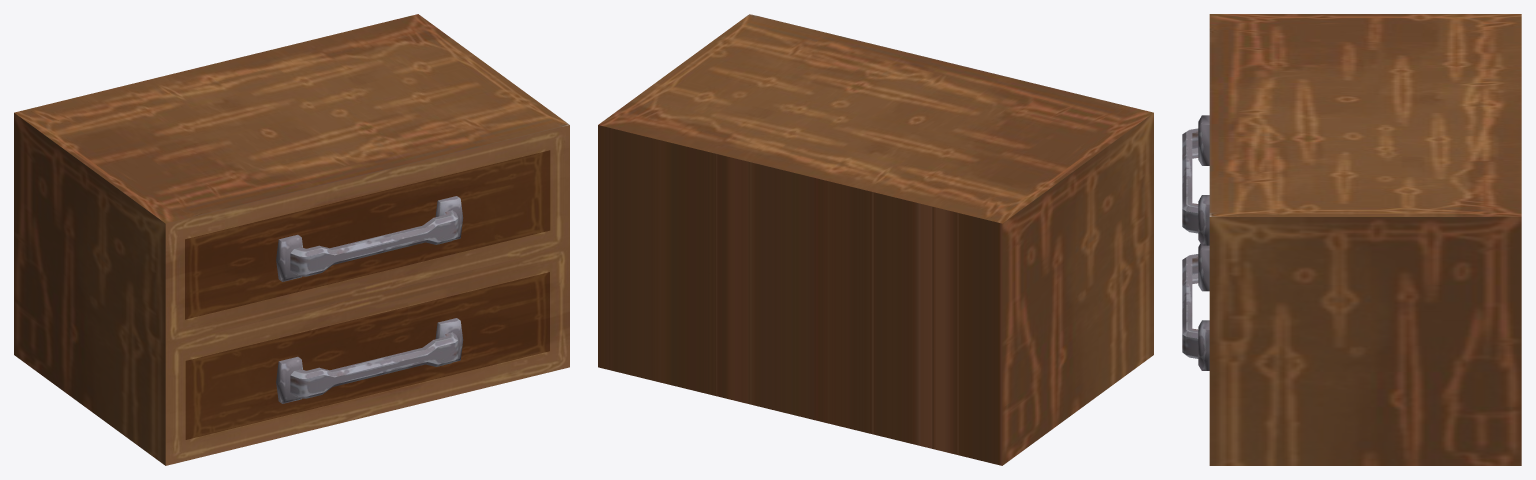
The model's file is Workbench_Drawers.gltf.
3 views of the same model, side by side, from view 1: azimuth 30°, elevation 25°; view 2: azimuth 150°, elevation 25°; view 3: azimuth 270°, elevation 25° (orthographic). The views are drawn at different scales.
Visible parts, largest first — view 1: Workbench_Drawers; view 2: Workbench_Drawers; view 3: Workbench_Drawers.
Boxes of the visible parts, box(x1,y1,x2,y2) form: Workbench_Drawers: box(14, 14, 569, 465); Workbench_Drawers: box(598, 14, 1153, 465); Workbench_Drawers: box(1182, 14, 1521, 465).
Size of the model in its own units: 0.4231 by 0.2423 by 0.299.
Materials: 2 (2 with a texture image).
